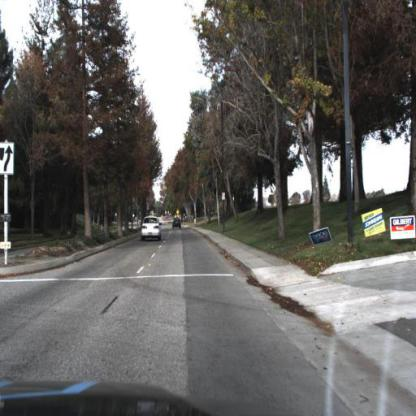car: (142, 213, 161, 242), (174, 216, 183, 229)
